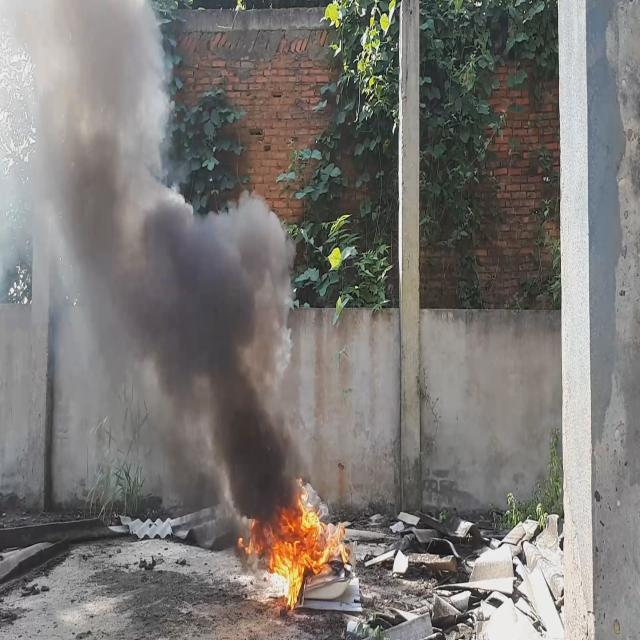Fire: (248, 489, 354, 609)
Smoke: (0, 0, 303, 521)
